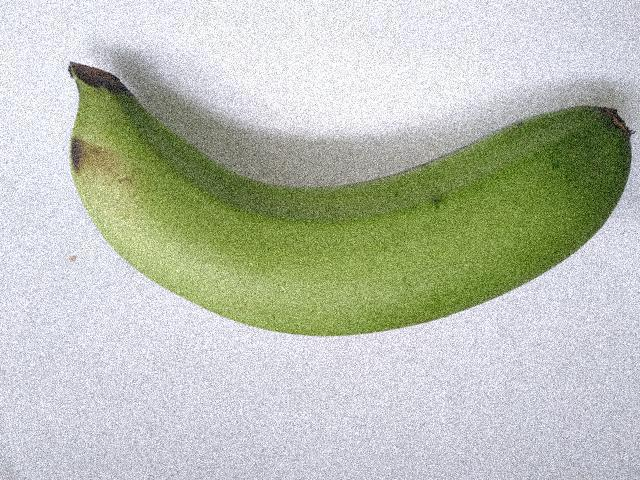freshunripe: (55, 54, 639, 361)
